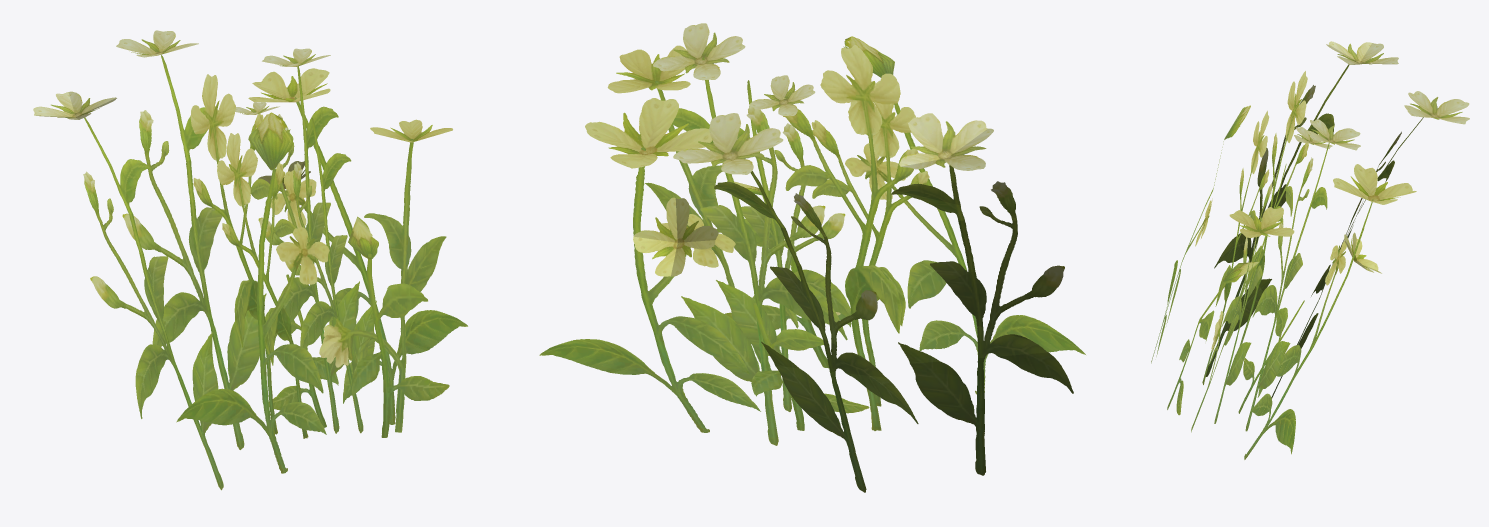
File: object_grass_08.FBX
3 renders of one model, left to right at view 1: azimuth 30°, elevation 25°; view 2: azimuth 150°, elevation 25°; view 3: azimuth 270°, elevation 25°, orthographic. The views are drawn at different scales.
Parts seen in each view (by area): view 1: object_grass_08; view 2: object_grass_08; view 3: object_grass_08.
Part boxes in pixels (<box>): object_grass_08: <box>33,30,467,490</box>; object_grass_08: <box>539,23,1085,492</box>; object_grass_08: <box>1151,41,1469,459</box>.
Size of the model in its own units: 329 by 274 by 244.
